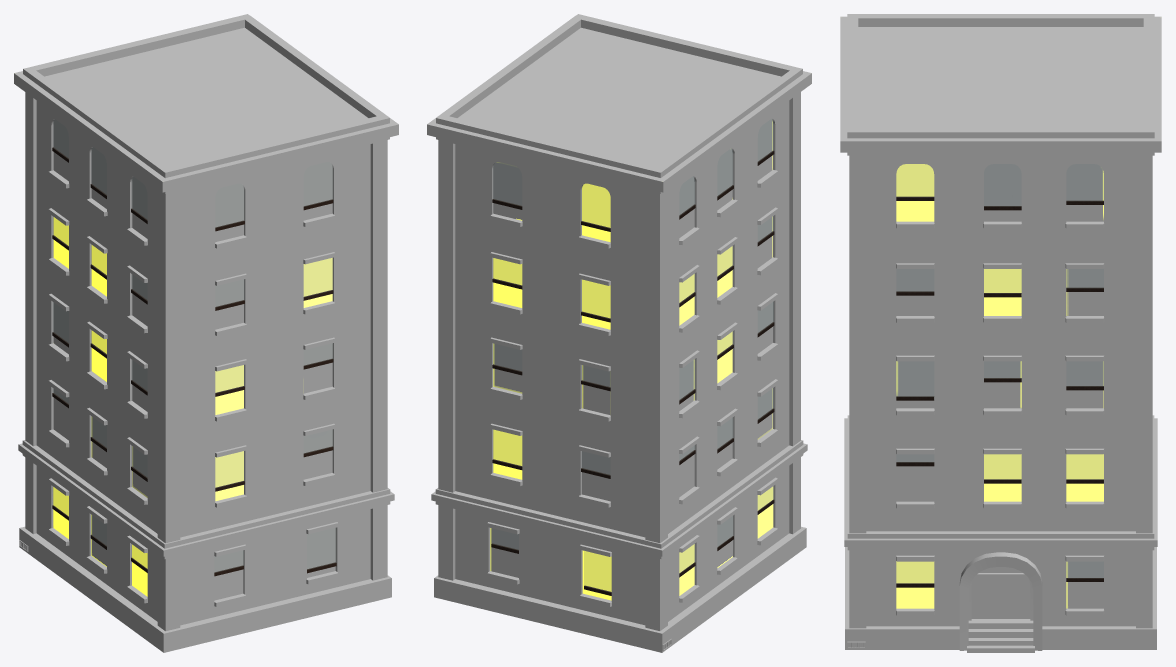
The picture shows the model from 3 angles, left to right: view 1: azimuth 30°, elevation 25°; view 2: azimuth 150°, elevation 25°; view 3: azimuth 270°, elevation 25°; orthographic projection. The views are drawn at different scales.
Visible parts, largest first — view 1: estructura, ventanas, pCube9, pCube6, pCube8; view 2: estructura, ventanas, pCube8, pCube7, pCube9; view 3: estructura, ventanas, pCube6, pCube7, polySurface4, polySurface1, pCube5.
Boxes of the visible parts, bbox=[...] form: estructura: bbox=[14, 14, 398, 652]; ventanas: bbox=[52, 120, 336, 576]; pCube9: bbox=[157, 189, 180, 631]; pCube6: bbox=[370, 140, 387, 580]; pCube8: bbox=[25, 92, 36, 533]; estructura: bbox=[427, 14, 811, 652]; ventanas: bbox=[491, 119, 774, 595]; pCube8: bbox=[645, 189, 667, 630]; pCube7: bbox=[438, 140, 455, 580]; pCube9: bbox=[789, 92, 800, 534]; estructura: bbox=[840, 14, 1161, 649]; ventanas: bbox=[896, 164, 1103, 587]; pCube6: bbox=[849, 155, 866, 628]; pCube7: bbox=[1136, 155, 1152, 628]; polySurface4: bbox=[959, 552, 1042, 650]; polySurface1: bbox=[967, 619, 1034, 652]; pCube5: bbox=[976, 580, 1025, 618].
Size of the model in its own units: 10.82 by 20.9 by 11.77.
